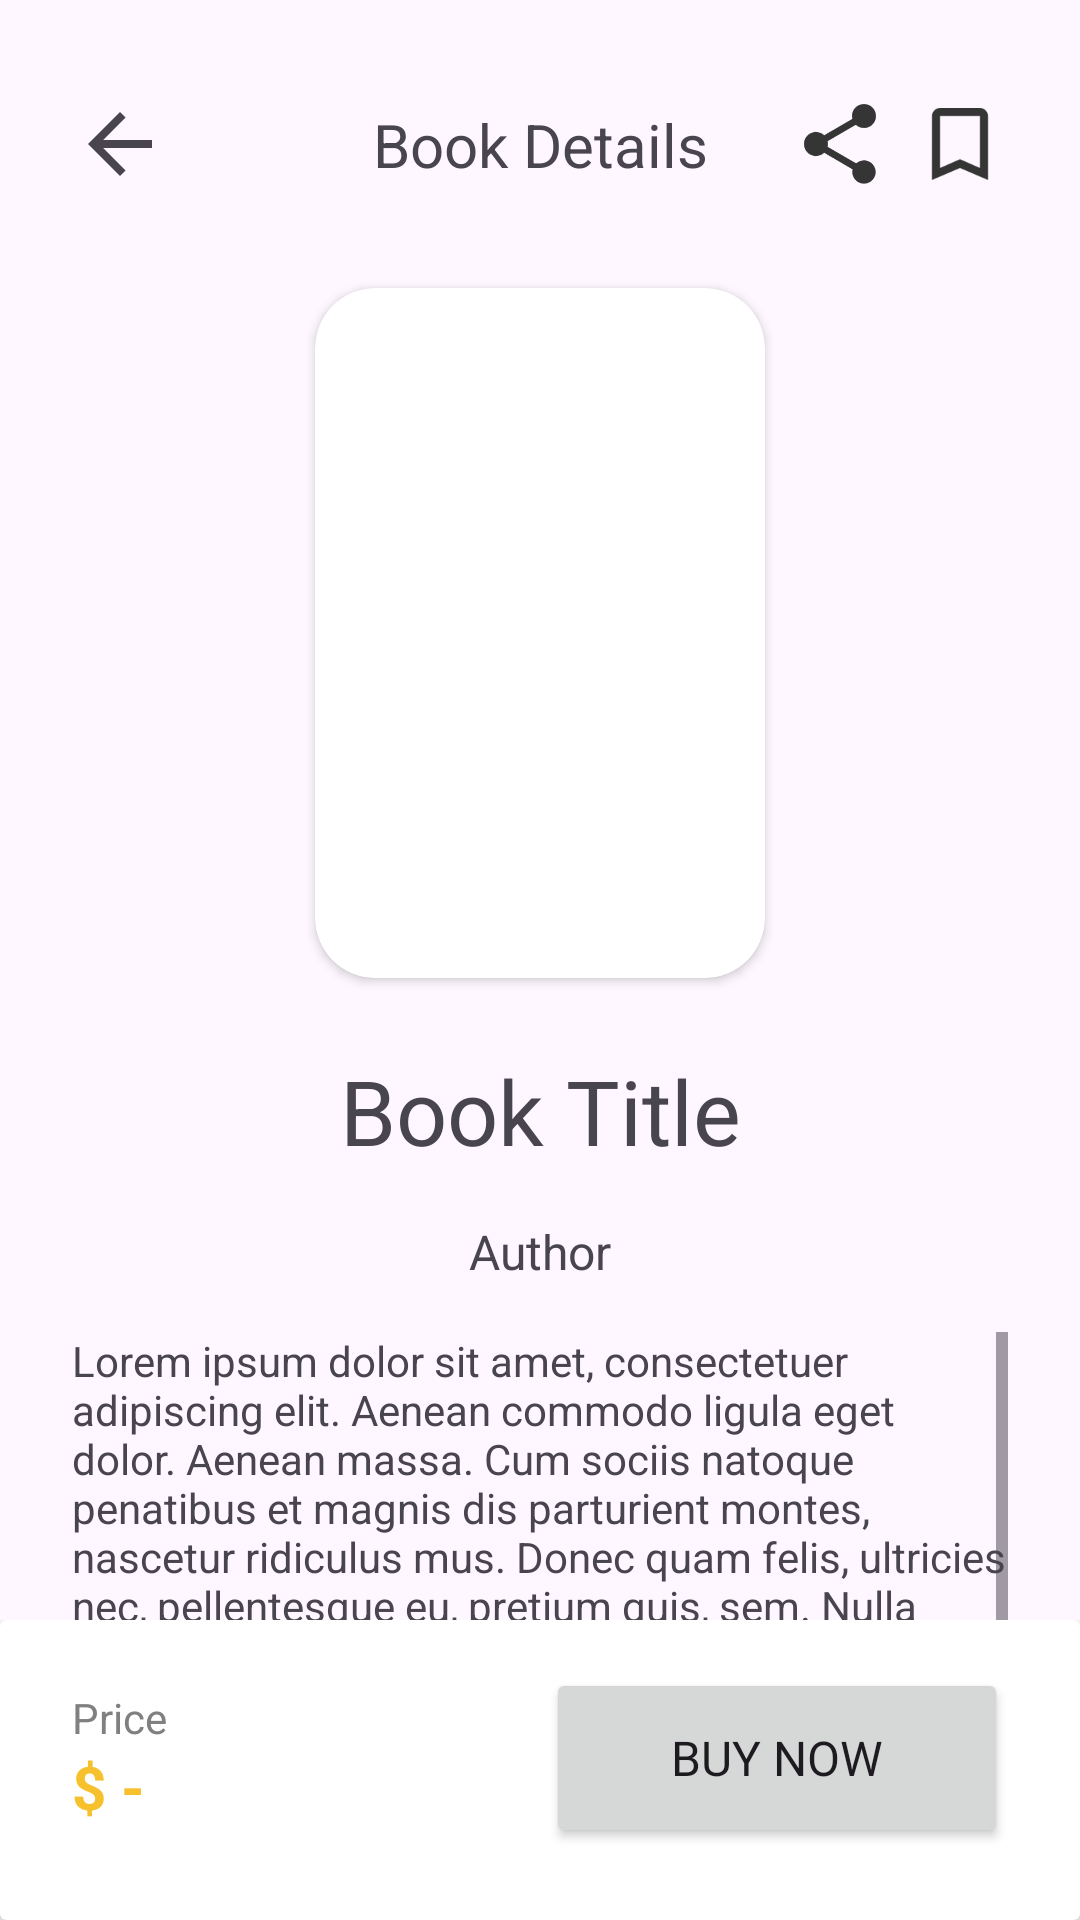

Named icons in this screenshot (1080 × 1920) and their bounding boxes, bbox=[x1, y1, x2, y2]:
bookmark border: bbox=[931, 108, 989, 180]
share: bbox=[804, 104, 876, 184]
